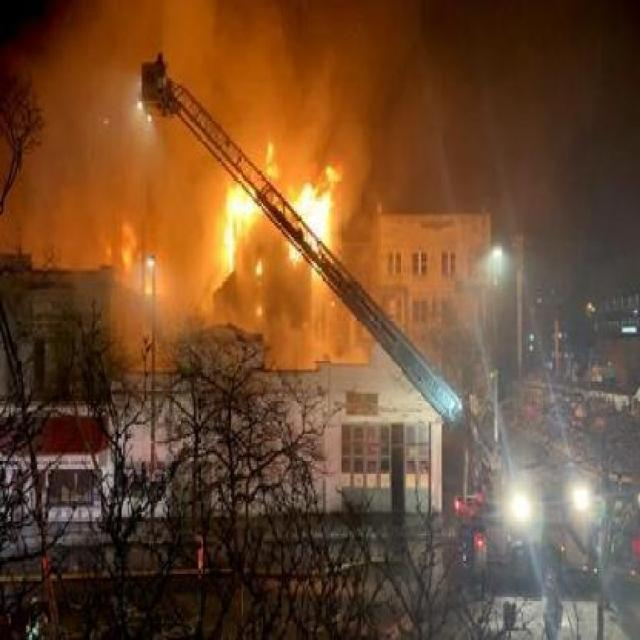Fire: (110, 140, 368, 320)
Smoke: (16, 6, 434, 132)
